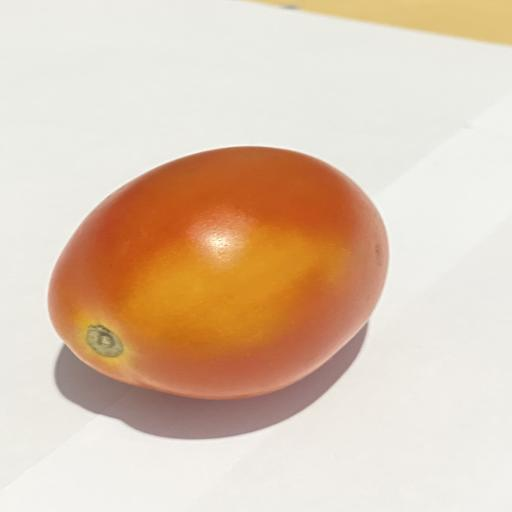ripe: (48, 147, 388, 399)
